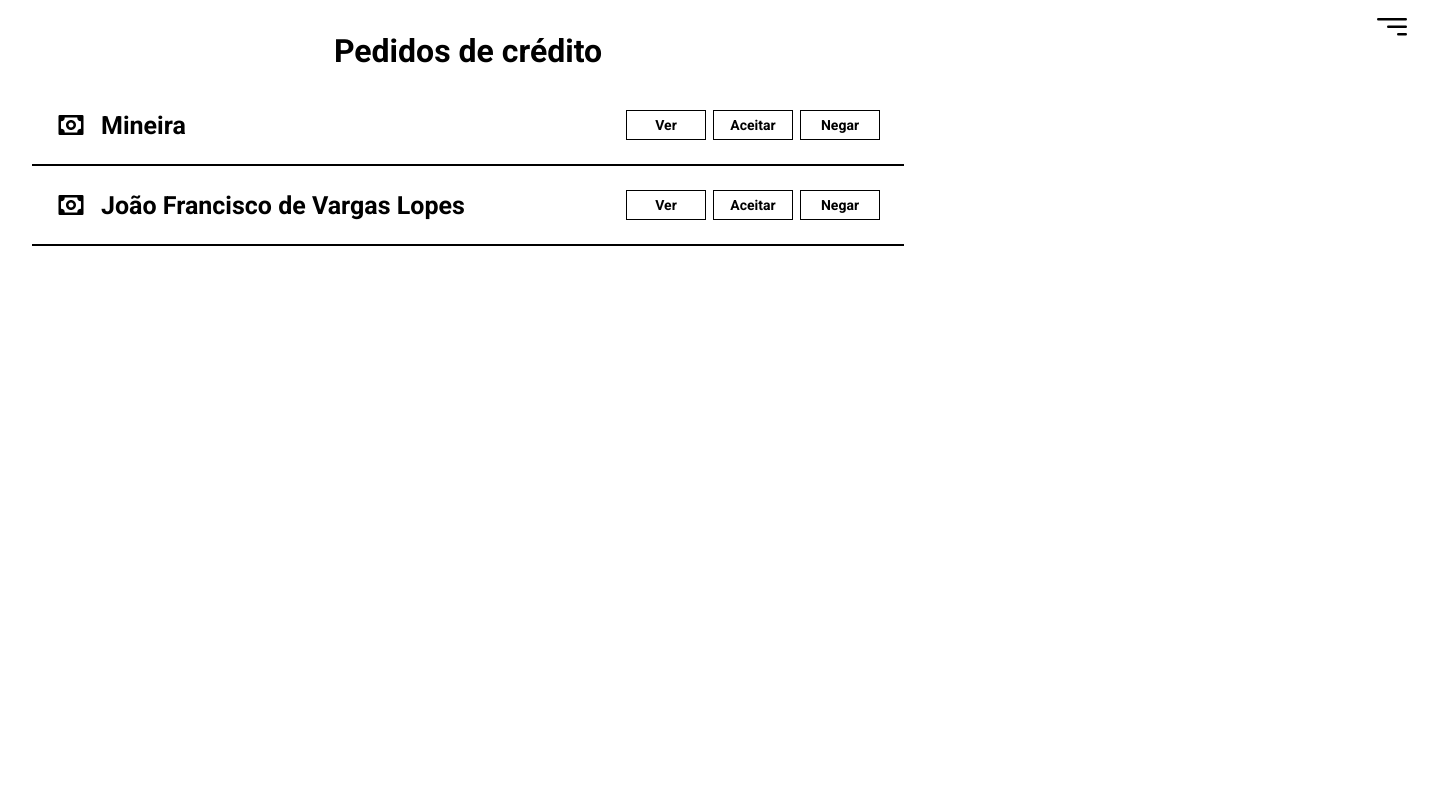
Credits › Render warning accept
The width and height of the screenshot is (1440, 810).
Click the button "Aceitar" in the row of "Mineira" at [753, 125], box 713,110 -> 793,140
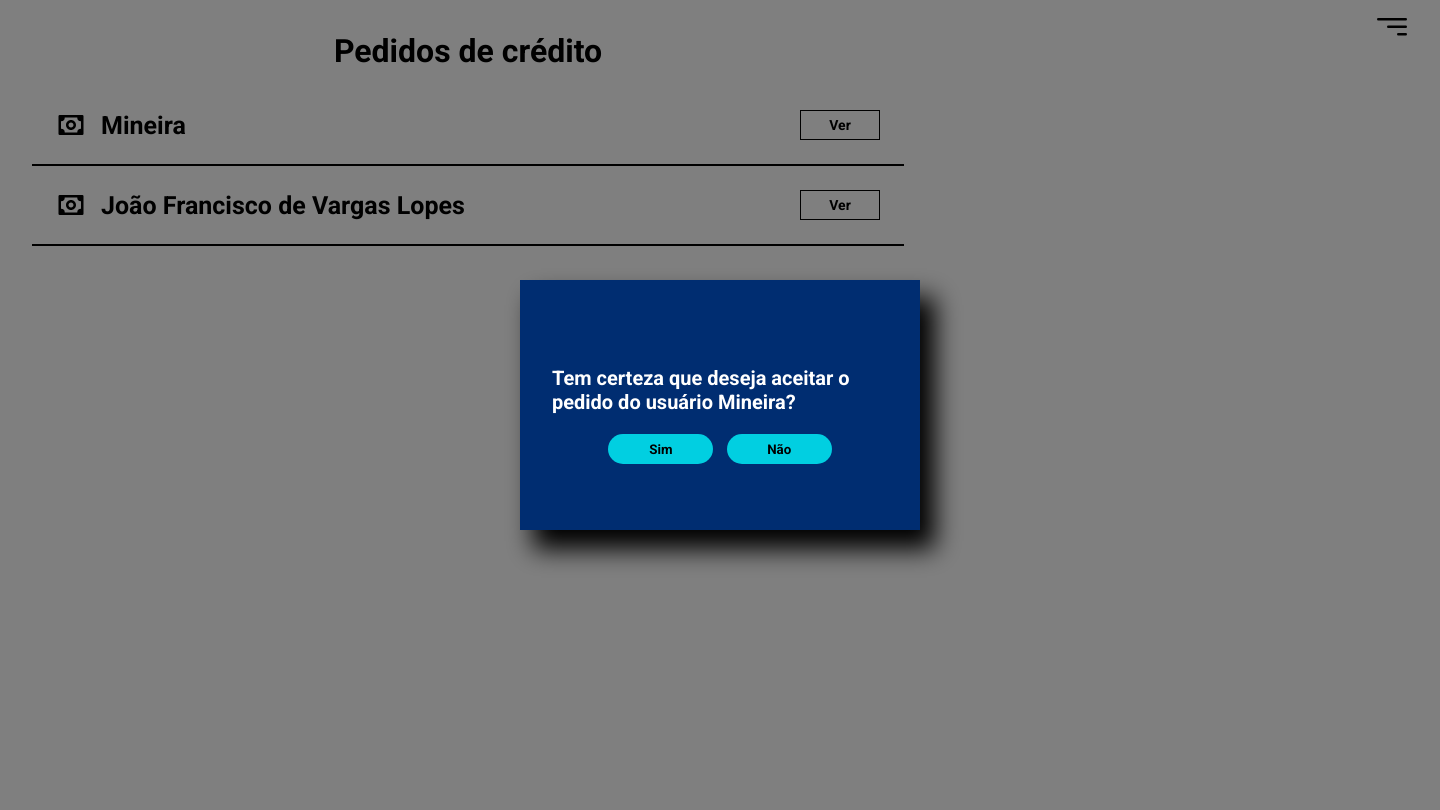
Check: the text "Tem certeza que deseja aceitar o pedido do usuário Mineira?" is shown, box 552,366 -> 850,414
Check: the button "Sim" is shown, box 608,434 -> 713,464
Check: the button "Não" is shown, box 727,434 -> 832,464
